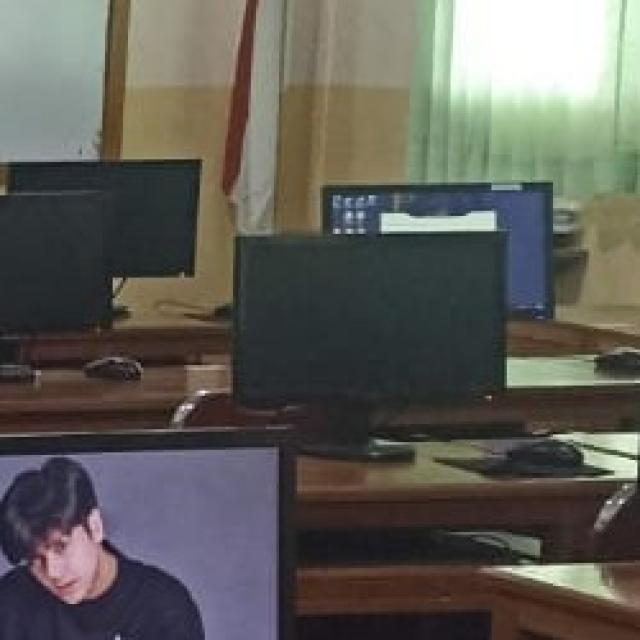offscreen: (235, 235, 504, 406), (10, 161, 198, 277), (0, 196, 110, 329)
onscreen: (0, 433, 279, 639), (324, 183, 551, 317)
